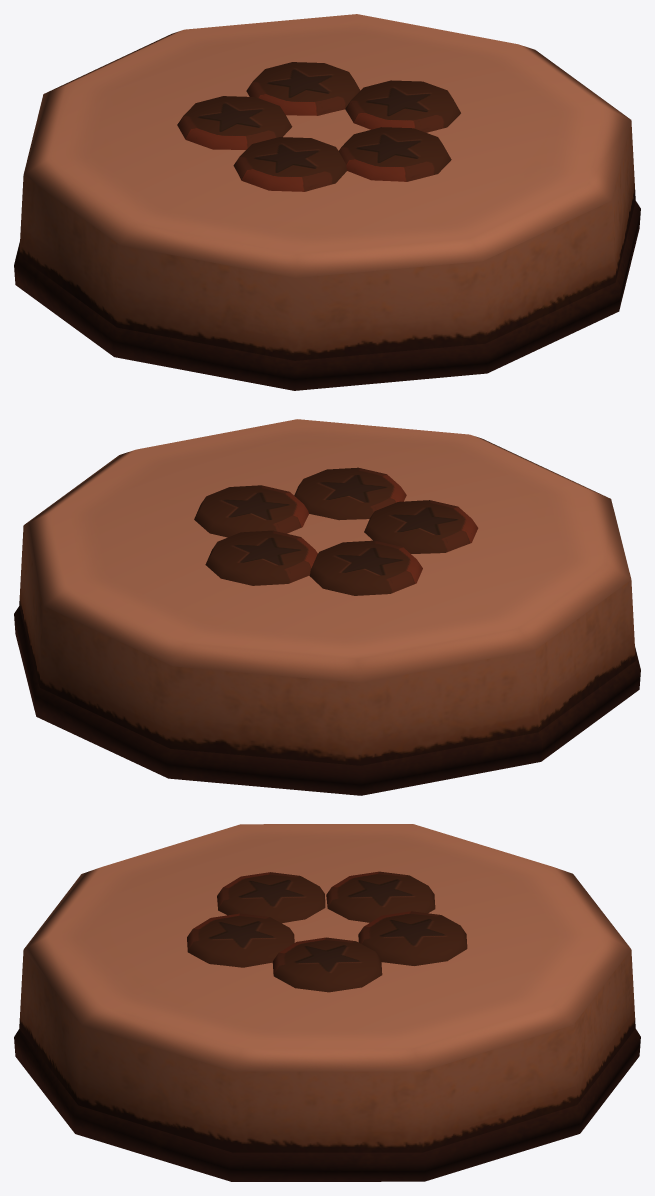
The model's file is Chocolate_Cheesecake_Whole.fbx.
3 views of the same model, one above another, from view 1: azimuth 30°, elevation 25°; view 2: azimuth 150°, elevation 25°; view 3: azimuth 270°, elevation 25° (orthographic). The views are drawn at different scales.
Visible parts, largest first — view 1: Chocolate_Cheesecake_Whole; view 2: Chocolate_Cheesecake_Whole; view 3: Chocolate_Cheesecake_Whole.
Boxes of the visible parts, left/top/right/bottom form: Chocolate_Cheesecake_Whole: left=14, top=14, right=640, bottom=390; Chocolate_Cheesecake_Whole: left=14, top=419, right=640, bottom=795; Chocolate_Cheesecake_Whole: left=14, top=824, right=640, bottom=1181.
Bounding box in the file's own units: 80 × 19.95 × 84.09.
